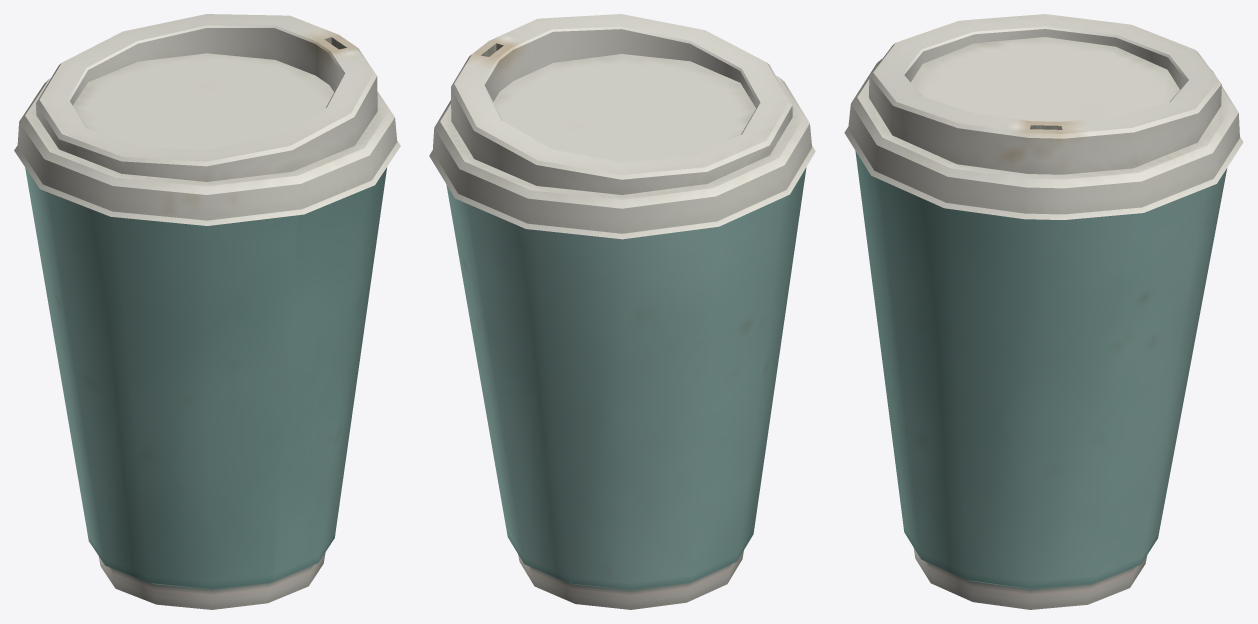
File: low-poly_takeaway_coffee_cup.glb
The picture shows the model from 3 angles, left to right: view 1: azimuth 30°, elevation 25°; view 2: azimuth 150°, elevation 25°; view 3: azimuth 270°, elevation 25°; orthographic projection. The views are drawn at different scales.
Parts seen in each view (by area): view 1: SM_TakeawayCup; view 2: SM_TakeawayCup; view 3: SM_TakeawayCup.
Boxes of the visible parts, x1,y1,x2,y2 form: SM_TakeawayCup: [14, 14, 400, 609]; SM_TakeawayCup: [429, 14, 815, 609]; SM_TakeawayCup: [844, 14, 1243, 609].
Bounding box in the file's own units: 0.0227 × 0.0321 × 0.023.
Materials: 1 (1 with a texture image).
